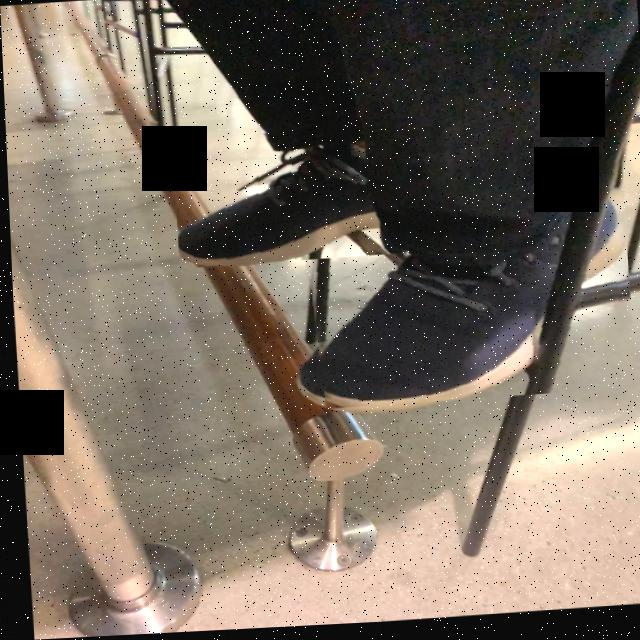shoe: (317, 170, 623, 406), (175, 131, 405, 266)
